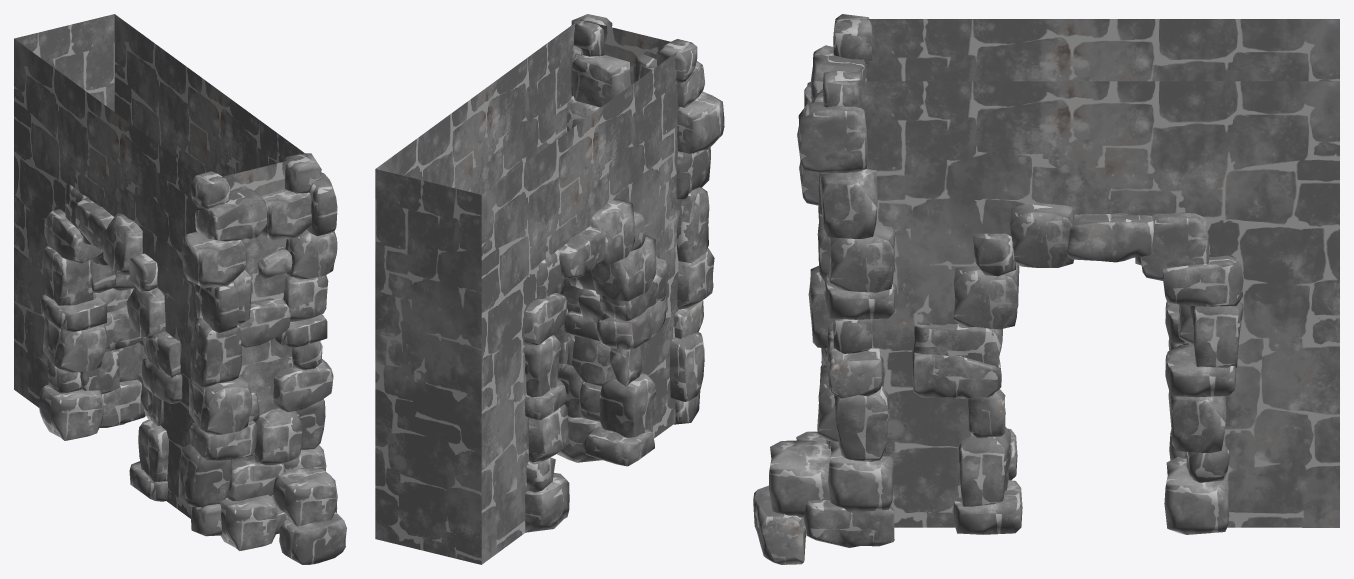
The model's file is Wall_Arch_Small_SidePiece_Left.fbx.
The picture shows the model from 3 angles, left to right: view 1: azimuth 30°, elevation 25°; view 2: azimuth 150°, elevation 25°; view 3: azimuth 270°, elevation 25°; orthographic projection. The views are drawn at different scales.
Visible parts, largest first — view 1: Rocks_05, Wall_Arch_Small_02; view 2: Wall_Arch_Small_02, Rocks_05; view 3: Wall_Arch_Small_02, Rocks_05.
Part boxes in pixels (x1=…): Rocks_05: x1=39, y1=153, x2=346, y2=564; Wall_Arch_Small_02: x1=14, y1=14, x2=307, y2=518; Wall_Arch_Small_02: x1=375, y1=19, x2=685, y2=564; Rocks_05: x1=487, y1=14, x2=724, y2=532; Wall_Arch_Small_02: x1=847, y1=19, x2=1339, y2=527; Rocks_05: x1=753, y1=14, x2=1243, y2=564.
Size of the model in its own units: 2.12 by 5.39 by 5.96.
